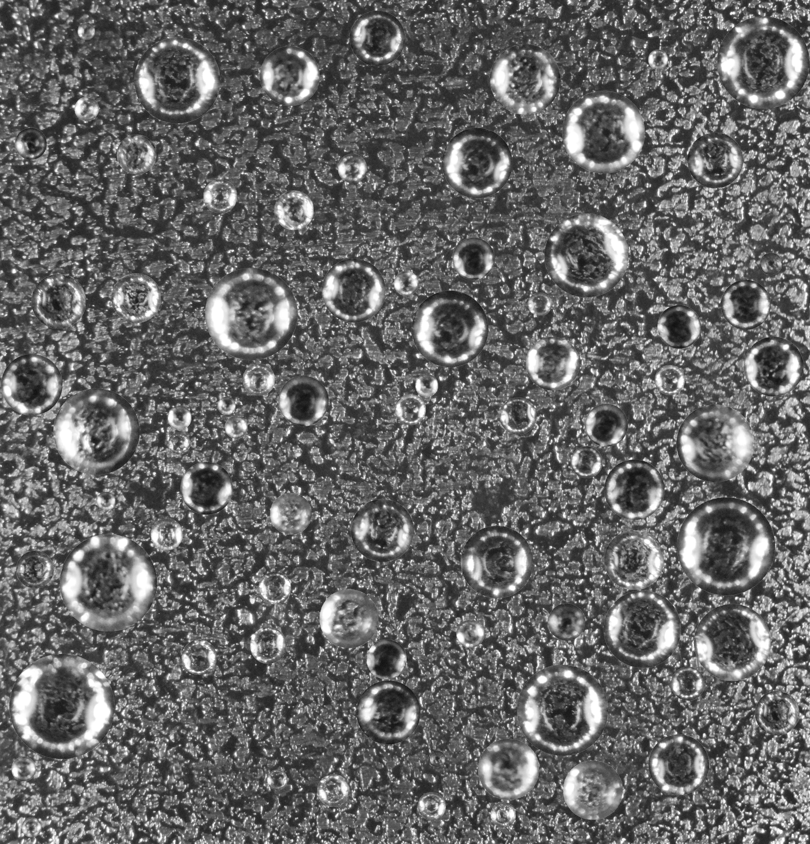Bubble: (9, 654, 114, 759), (677, 497, 775, 595), (59, 534, 156, 631), (205, 267, 297, 360), (717, 16, 809, 108), (517, 664, 608, 755), (134, 37, 220, 123), (53, 388, 139, 474), (544, 213, 628, 297), (562, 90, 644, 173), (676, 404, 754, 482), (603, 590, 681, 667), (411, 290, 488, 367), (694, 604, 770, 680), (460, 525, 533, 598), (442, 127, 512, 198), (490, 44, 560, 114), (356, 680, 420, 744), (321, 258, 385, 322), (351, 499, 413, 561), (1, 354, 62, 415), (478, 738, 539, 799), (648, 734, 709, 795), (604, 459, 664, 519), (744, 336, 803, 396), (260, 46, 319, 105), (563, 760, 622, 819), (604, 530, 663, 589), (319, 589, 378, 648), (687, 132, 743, 188), (349, 10, 405, 65), (31, 274, 85, 328), (526, 336, 579, 390), (180, 462, 232, 514), (278, 375, 328, 426), (721, 279, 770, 329), (111, 273, 160, 322), (755, 691, 799, 735), (657, 305, 701, 348), (585, 403, 627, 446), (452, 237, 494, 279), (270, 493, 311, 534), (116, 134, 156, 174), (366, 639, 406, 679), (274, 190, 313, 229), (16, 550, 53, 588), (548, 603, 585, 640), (499, 397, 536, 434), (250, 627, 286, 663), (181, 639, 216, 674), (203, 179, 237, 213), (671, 666, 704, 700), (258, 571, 291, 604), (317, 774, 349, 806), (242, 363, 274, 395), (14, 127, 46, 159), (570, 446, 602, 478), (150, 518, 182, 550), (394, 394, 425, 425), (654, 365, 684, 395), (337, 153, 366, 182), (456, 619, 484, 647), (417, 792, 445, 820), (490, 802, 515, 827), (11, 756, 35, 781), (167, 405, 191, 429), (74, 96, 98, 120), (394, 271, 418, 295), (528, 292, 551, 315), (224, 415, 247, 438), (759, 252, 782, 274), (415, 374, 438, 396), (168, 432, 190, 454), (267, 769, 287, 790), (21, 817, 41, 837), (648, 49, 668, 69), (96, 491, 115, 510), (217, 396, 235, 414), (428, 750, 445, 767), (77, 22, 94, 39)
